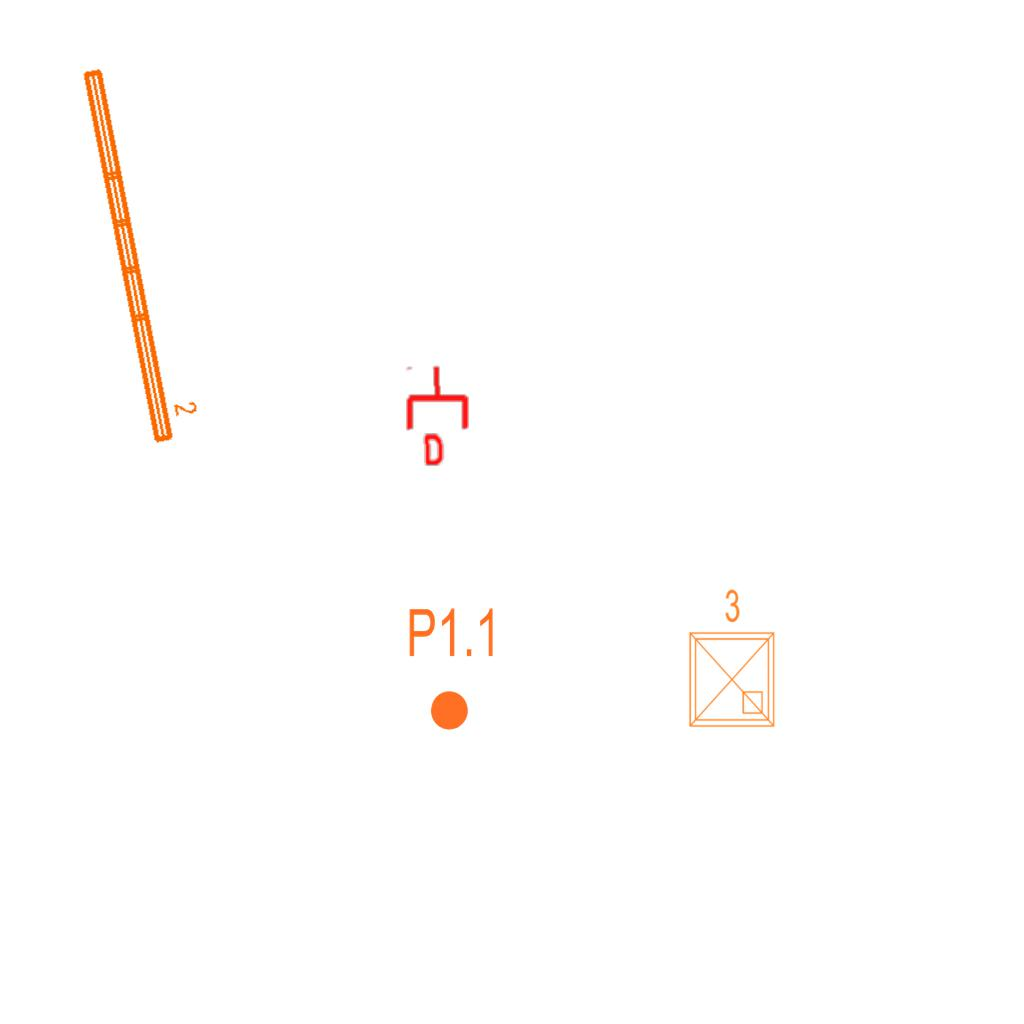Ambulanz_Pendelleuchte_LED: (76, 57, 205, 449)
Datenanschluss_einfach: (402, 364, 473, 466)
Downlight_LED_Einbauleuchten_Flur: (406, 605, 499, 733)
Einbaudownlights_LED_Konferenzraeume: (678, 584, 782, 734)
